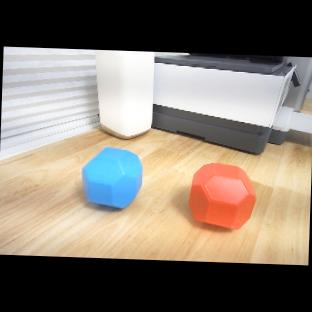V5_BLUE: (80, 145, 145, 213), (82, 147, 143, 208)
V5_RED: (187, 161, 257, 231), (189, 163, 256, 229)
